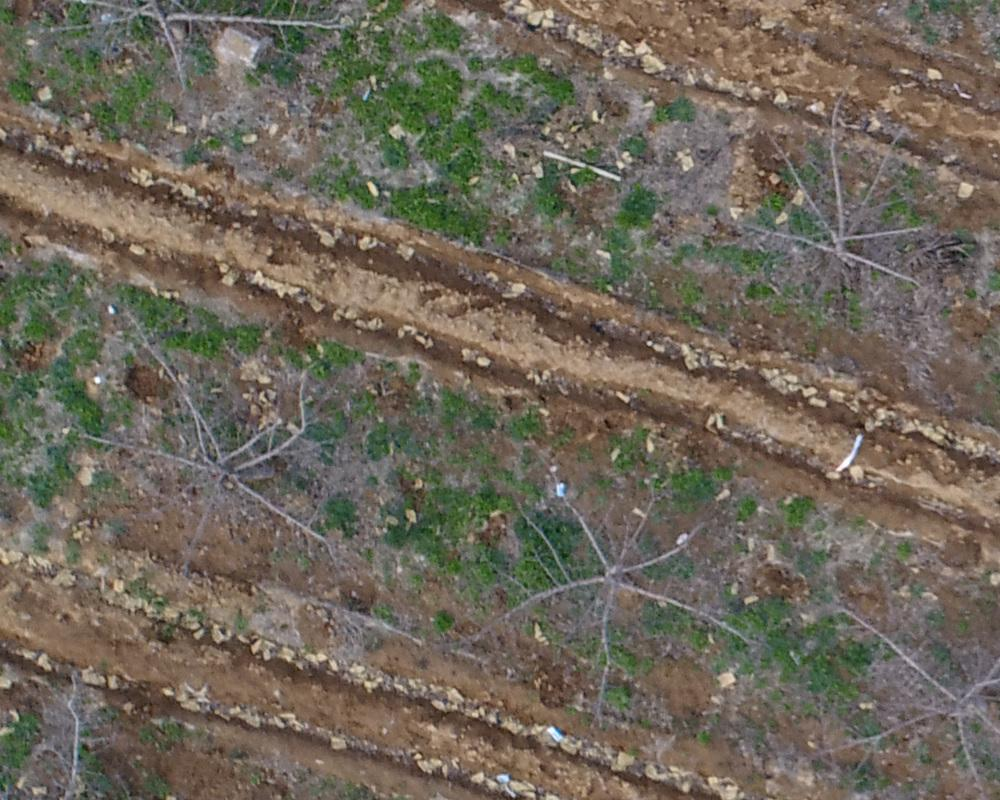apple: (469, 462, 776, 718), (67, 306, 355, 567), (699, 93, 979, 308), (819, 565, 990, 790)
